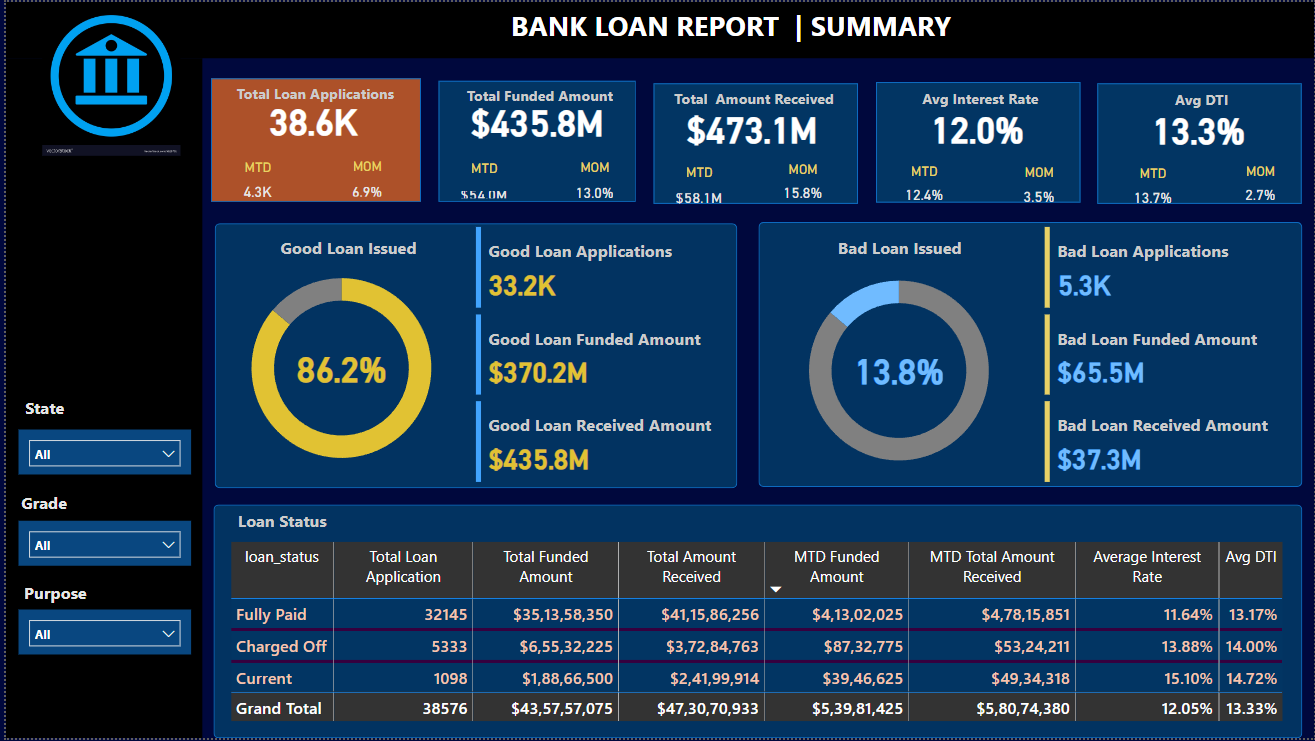

Layout of this report page (visuals, bound fields, positions):
{"tool":"powerbi","page":{"name":"Summary","canvas":[1280,720],"ordinal":0},"visuals":[{"type":"shape","box":[0,54.9,192,665.5],"z":0},{"type":"shape","box":[201,75,205.4,121],"z":0,"group":"g1"},{"type":"shape","box":[423.3,77,193.1,118.6],"z":0,"group":"g2"},{"type":"shape","box":[850.3,78.2,200,118],"z":0,"group":"g4"},{"type":"shape","box":[633.3,79.4,200,118],"z":0,"group":"g3"},{"type":"shape","box":[1067.2,79.5,200,118],"z":0,"group":"g5"},{"type":"donutChart","fields":{"Category":["financial_loan.Good Vs Bad Loan"],"Y":["financial_loan.Total Loan Application"]},"box":[748.5,245.6,250.6,229.8],"z":0,"group":"g6"},{"type":"card","fields":{"Values":["financial_loan.Total Funded Amount"]},"box":[446.6,88.2,146.9,56.6],"z":1000,"group":"g2"},{"type":"card","fields":{"Values":["financial_loan.Total Loan Application"]},"box":[245.5,90.6,112.5,48.9],"z":1000,"group":"g1"},{"type":"card","fields":{"Values":["financial_loan.Average Interest Rate"]},"box":[870,91.6,158.9,62.3],"z":1000,"group":"g4"},{"type":"card","fields":{"Values":["financial_loan.Total Amount Received"]},"box":[652.4,92.1,153.5,58.8],"z":1000,"group":"g3"},{"type":"card","fields":{"Values":["financial_loan.Avg DTI"]},"box":[1086.9,92.9,158.9,62.3],"z":1000,"group":"g5"},{"type":"shape","box":[204.1,216.4,511,259.2],"z":1000},{"type":"textbox","box":[783.4,223.6,180.9,40.3],"z":1000,"group":"g6"},{"type":"shape","box":[0,0,1280.3,55],"z":2000},{"type":"textbox","box":[201.1,75,204.1,29.3],"z":2000,"group":"g1"},{"type":"textbox","box":[438.6,77,166.7,38.9],"z":2000,"group":"g2"},{"type":"textbox","box":[633.6,79,196.8,28.1],"z":2000,"group":"g3"},{"type":"textbox","box":[862,79.3,179.7,28.1],"z":2000,"group":"g4"},{"type":"textbox","box":[1078.9,80.6,179.7,28.1],"z":2000,"group":"g5"},{"type":"cardVisual","fields":{"Data":["financial_loan.Bad Loan Applications","financial_loan.Bad Loan Funded Amount","financial_loan.Bad Loan Received Amount"]},"box":[1010.7,215,256.7,260.4],"z":2000,"group":"g6"},{"type":"card","title":"MTD","fields":{"Values":["financial_loan.MTD Loan Applications"]},"box":[215.7,154.5,62.3,40.3],"z":3000,"group":"g1"},{"type":"card","title":"MTD","fields":{"Values":["financial_loan.MTD Funded Amount"]},"box":[435.2,155.2,64.8,36.7],"z":3000,"group":"g2"},{"type":"card","title":"MTD","fields":{"Values":["financial_loan.MTD Avg Int Rate"]},"box":[862.4,157.4,69.7,40.3],"z":3000,"group":"g4"},{"type":"card","title":"MTD","fields":{"Values":["financial_loan.MTD Total Amount Received"]},"box":[644.6,158,67.3,38.1],"z":3000,"group":"g3"},{"type":"card","title":"MTD","fields":{"Values":["financial_loan.MTD Avg DTI"]},"box":[1086.6,159.6,69.7,40.3],"z":3000,"group":"g5"},{"type":"textbox","box":[7.3,473.1,59.9,50.1],"z":3000},{"type":"card","title":"MOM","fields":{"Values":["financial_loan.MOM Loan Applications"]},"box":[324.5,153.3,58.7,37.9],"z":4000,"group":"g1"},{"type":"card","title":"MOM","fields":{"Values":["financial_loan.MOM Funded Amount"]},"box":[548.9,154,53.8,39.1],"z":4000,"group":"g2"},{"type":"card","title":"MOM","fields":{"Values":["financial_loan.MOM Total Amount Received"]},"box":[748.5,155.9,62.3,44],"z":4000,"group":"g3"},{"type":"card","title":"MOM","fields":{"Values":["financial_loan.MOM Avg DTI"]},"box":[1197.8,157.2,57.5,40.3],"z":4000,"group":"g5"},{"type":"card","title":"MOM","fields":{"Values":["financial_loan.MOM Avg Int Rate"]},"box":[980.9,158.6,57.5,40.3],"z":4000,"group":"g4"},{"type":"textbox","box":[0,561.1,96.6,55],"z":4000},{"type":"textbox","box":[0,380.2,75.8,37.9],"z":5000},{"type":"card","fields":{"Values":["financial_loan.Good Loan %"]},"box":[273.8,327.6,108.8,59.9],"z":6000},{"type":"textbox","box":[489.3,0,565.3,55.2],"z":7000},{"type":"group","id":"g1","title":"Group 1","box":[201,75,205.4,121],"z":8000},{"type":"group","id":"g2","title":"Group 1","box":[423.3,77,193.1,118.6],"z":9000},{"type":"group","id":"g3","title":"Group 1","box":[633.3,79,200,120.9],"z":10000},{"type":"group","id":"g4","title":"Group 1","box":[850.3,78.2,200,120.7],"z":11000},{"type":"group","id":"g5","title":"Group 1","box":[1067.2,79.5,200,120.5],"z":12000},{"type":"shape","box":[735.9,215.1,531.7,259.2],"z":13000},{"type":"donutChart","fields":{"Category":["financial_loan.Good Vs Bad Loan"],"Y":["financial_loan.Total Loan Application"]},"box":[202.9,243.3,250.6,229.8],"z":14000},{"type":"textbox","box":[245.7,223.7,178.5,40.3],"z":15000},{"type":"cardVisual","fields":{"Data":["financial_loan.Good Loan Applications","financial_loan.Good Loan Funded Amount","financial_loan.Good Loan Received Amount"]},"box":[454.7,215.1,256.7,260.4],"z":16000},{"type":"card","fields":{"Values":["financial_loan.Bad Loan %"]},"box":[819,328.8,108.8,59.9],"z":17000},{"type":"group","id":"g6","title":"Group 2","box":[748.5,215,518.9,260.4],"z":18000},{"type":"shape","box":[202.9,491.4,1064.7,228.6],"z":19000},{"type":"tableEx","fields":{"Values":["financial_loan.loan_status","financial_loan.Total Loan Application","financial_loan.Total Funded Amount","financial_loan.Total Amount Received","financial_loan.MTD Funded Amount","financial_loan.MTD Total Amount Received","financial_loan.Average Interest Rate","financial_loan.Avg DTI"]},"box":[213.9,523.2,1041.5,185.8],"z":20000},{"type":"textbox","box":[207.8,491.4,124.7,31.8],"z":21000},{"type":"slicer","fields":{"Values":["financial_loan.address_state"]},"box":[12.2,418.1,168.7,44],"z":22000},{"type":"slicer","fields":{"Values":["financial_loan.grade"]},"box":[12.2,507.3,168.7,44],"z":23000},{"type":"slicer","fields":{"Values":["financial_loan.purpose"]},"box":[12.2,594.1,168.7,44],"z":24000},{"type":"image","box":[12.2,0,180.9,155.2],"z":24001}]}

Visuals, with their boxes in screenshot pixels (x1, y1, x2, y2), scaled from the page's 1280x720 canvas onto the 1315x741 screenshot:
shape: [0, 57, 197, 740]
shape: [206, 77, 418, 202]
shape: [435, 79, 633, 201]
shape: [874, 80, 1079, 202]
shape: [651, 82, 856, 203]
shape: [1096, 82, 1302, 203]
donutChart - financial_loan.Good Vs Bad Loan x financial_loan.Total Loan Application: [769, 253, 1026, 489]
card - financial_loan.Total Funded Amount: [459, 91, 610, 149]
card - financial_loan.Total Loan Application: [252, 93, 368, 144]
card - financial_loan.Average Interest Rate: [894, 94, 1057, 158]
card - financial_loan.Total Amount Received: [670, 95, 828, 155]
card - financial_loan.Avg DTI: [1117, 96, 1280, 160]
shape: [210, 223, 735, 489]
textbox: [805, 230, 991, 272]
shape: [0, 0, 1314, 57]
textbox: [207, 77, 416, 107]
textbox: [451, 79, 622, 119]
textbox: [651, 81, 853, 110]
textbox: [886, 82, 1070, 111]
textbox: [1108, 83, 1293, 112]
cardVisual - financial_loan.Bad Loan Applications x financial_loan.Bad Loan Funded Amount: [1038, 221, 1302, 489]
"MTD" card: [222, 159, 286, 200]
"MTD" card: [447, 160, 514, 197]
"MTD" card: [886, 162, 958, 203]
"MTD" card: [662, 163, 731, 202]
"MTD" card: [1116, 164, 1188, 206]
textbox: [7, 487, 69, 538]
"MOM" card: [333, 158, 394, 197]
"MOM" card: [564, 158, 619, 199]
"MOM" card: [769, 160, 833, 206]
"MOM" card: [1231, 162, 1290, 203]
"MOM" card: [1008, 163, 1067, 205]
textbox: [0, 577, 99, 634]
textbox: [0, 391, 78, 430]
card - financial_loan.Good Loan %: [281, 337, 393, 399]
textbox: [503, 0, 1083, 57]
"Group 1" group: [206, 77, 418, 202]
"Group 1" group: [435, 79, 633, 201]
"Group 1" group: [651, 81, 856, 206]
"Group 1" group: [874, 80, 1079, 205]
"Group 1" group: [1096, 82, 1302, 206]
shape: [756, 221, 1302, 488]
donutChart - financial_loan.Good Vs Bad Loan x financial_loan.Total Loan Application: [208, 250, 466, 487]
textbox: [252, 230, 436, 272]
cardVisual - financial_loan.Good Loan Applications x financial_loan.Good Loan Funded Amount: [467, 221, 731, 489]
card - financial_loan.Bad Loan %: [841, 338, 953, 400]
"Group 2" group: [769, 221, 1302, 489]
shape: [208, 506, 1302, 740]
tableEx - financial_loan.loan_status x financial_loan.Total Loan Application: [220, 538, 1290, 730]
textbox: [213, 506, 342, 538]
slicer - financial_loan.address_state: [13, 430, 186, 476]
slicer - financial_loan.grade: [13, 522, 186, 567]
slicer - financial_loan.purpose: [13, 611, 186, 657]
image: [13, 0, 198, 160]
